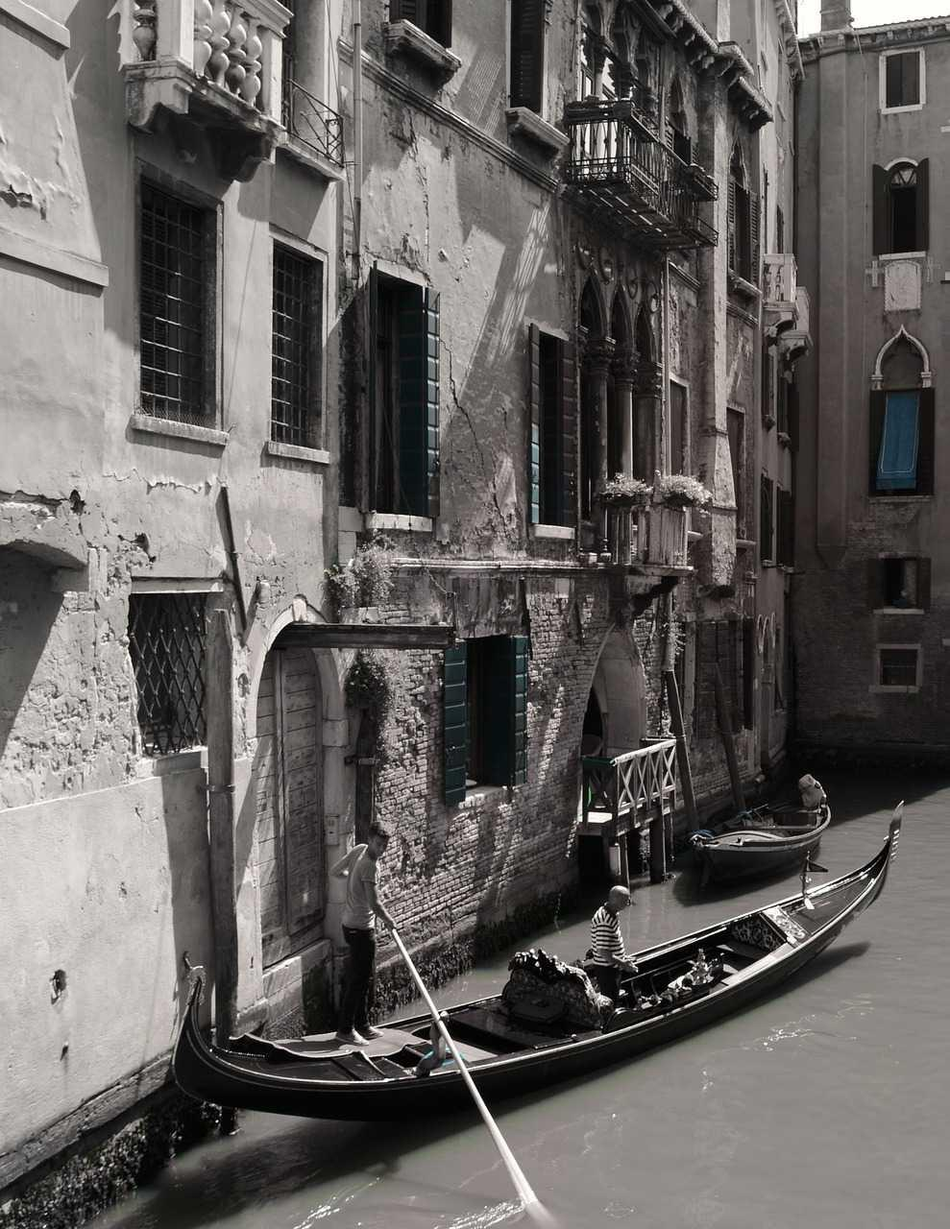kayak: (173, 802, 902, 1122), (689, 779, 832, 887)
